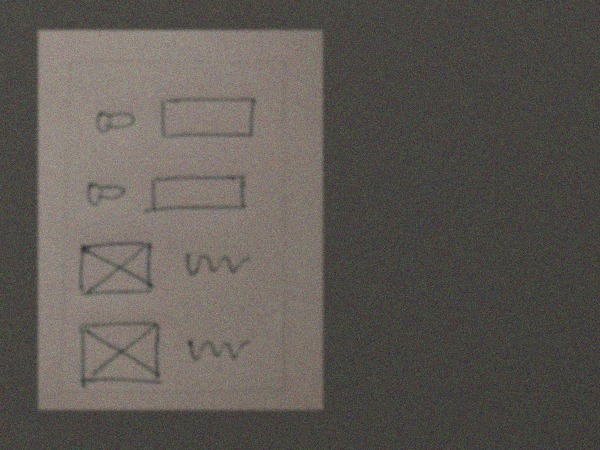image: (73, 318, 170, 389), (75, 238, 156, 300)
switch: (93, 105, 142, 136), (84, 178, 127, 211)
text: (180, 245, 253, 285), (185, 331, 252, 367)
text_input: (156, 95, 258, 141), (142, 175, 253, 213)
